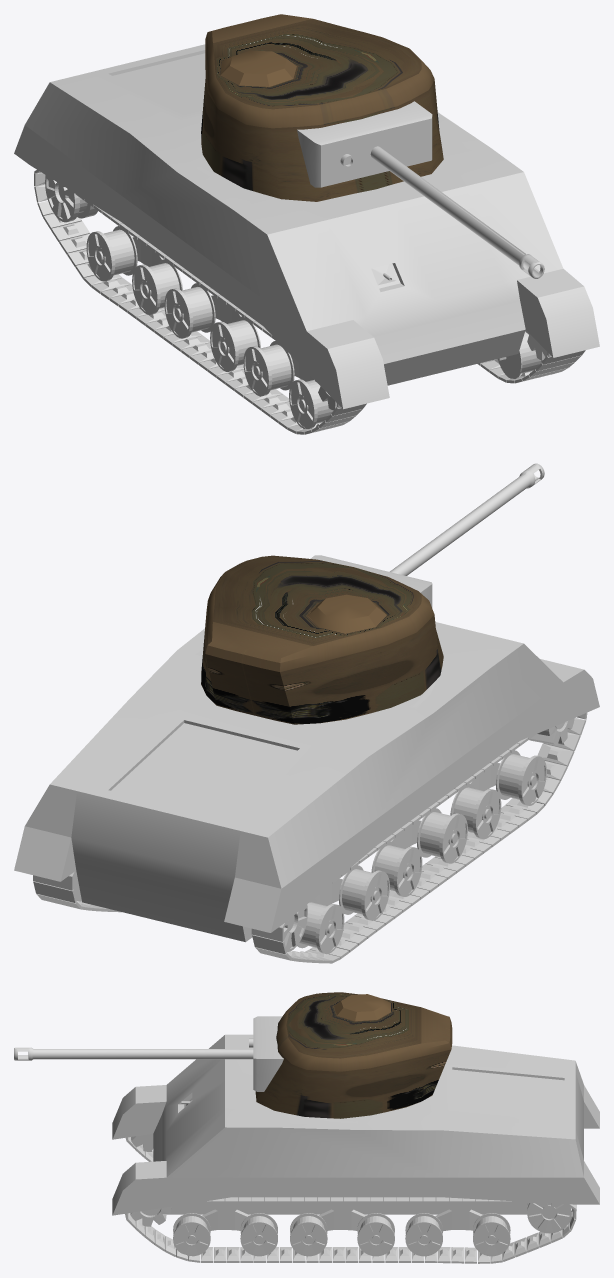
3 renders of one model, top to bottom at view 1: azimuth 30°, elevation 25°; view 2: azimuth 150°, elevation 25°; view 3: azimuth 270°, elevation 25°, orthographic. The views are drawn at different scales.
Parts seen in each view (by area): view 1: Hull, Turret, BeltRight, Manlet, Barrel, RoadWheelR4, RoadWheelR6, RoadWheelR2, RoadWheelR3, RoadWheelR5, RoadWheelR1, IdlerR1 (+2 smaller); view 2: Hull, Turret, BeltRight, Barrel, RoadWheelR3, RoadWheelR5, RoadWheelR1, RoadWheelR2, RoadWheelR4, RoadWheelR6, BeltLeft, Manlet (+1 smaller); view 3: Hull, Turret, BeltLeft, Barrel, Manlet, RoadWheelL4, RoadWheelL3, RoadWheelL6, RoadWheelL2, RoadWheelL5, RoadWheelL1, IdlerL1 (+4 smaller).
Boxes of the visible parts, x1,y1,x2,y2 form: Hull: [14, 44, 599, 409]; Turret: [201, 14, 443, 201]; BeltRight: [34, 170, 366, 434]; Manlet: [297, 101, 432, 187]; Barrel: [370, 146, 544, 278]; RoadWheelR4: [164, 283, 215, 338]; RoadWheelR6: [86, 226, 137, 281]; RoadWheelR2: [243, 341, 294, 396]; RoadWheelR3: [210, 316, 260, 371]; RoadWheelR5: [132, 259, 182, 314]; RoadWheelR1: [289, 379, 333, 428]; IdlerR1: [45, 175, 97, 222]; Hull: [14, 622, 599, 942]; Turret: [201, 555, 443, 724]; BeltRight: [251, 713, 587, 963]; Barrel: [389, 463, 544, 575]; RoadWheelR3: [417, 808, 467, 863]; RoadWheelR5: [339, 865, 389, 920]; RoadWheelR1: [495, 750, 546, 805]; RoadWheelR2: [450, 783, 501, 839]; RoadWheelR4: [371, 841, 422, 896]; RoadWheelR6: [297, 899, 344, 954]; BeltLeft: [33, 871, 121, 912]; Manlet: [310, 555, 432, 607]; Hull: [112, 1034, 599, 1215]; Turret: [255, 992, 452, 1118]; BeltLeft: [125, 1197, 576, 1263]; Barrel: [14, 1047, 253, 1060]; Manlet: [253, 1016, 283, 1091]; RoadWheelL4: [357, 1213, 394, 1256]; RoadWheelL3: [290, 1213, 327, 1256]; RoadWheelL6: [473, 1213, 510, 1256]; RoadWheelL2: [240, 1213, 277, 1256]; RoadWheelL5: [405, 1213, 442, 1256]; RoadWheelL1: [173, 1213, 210, 1256]; IdlerL1: [527, 1202, 571, 1233].
Size of the model in its own units: 174 by 175 by 464.
